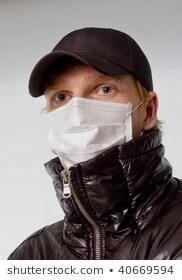Wearing Mask: (11, 9, 182, 208)
